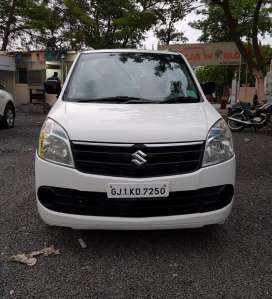nameplate: (107, 183, 170, 197)
